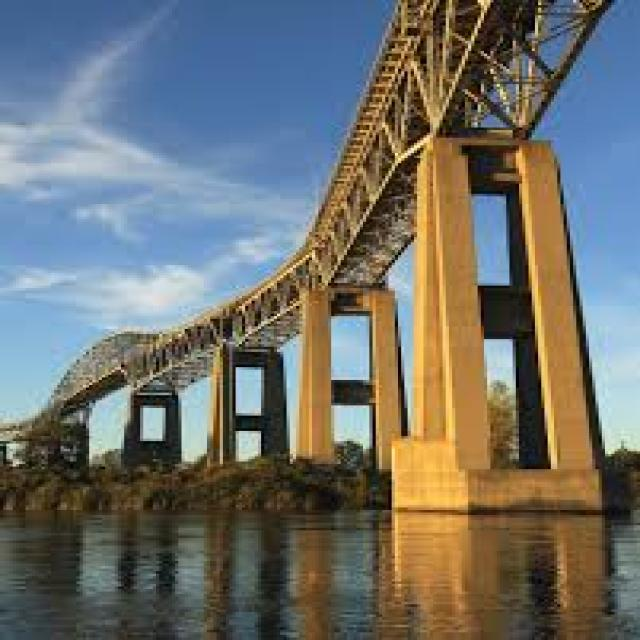Bridges: (0, 0, 637, 507)
